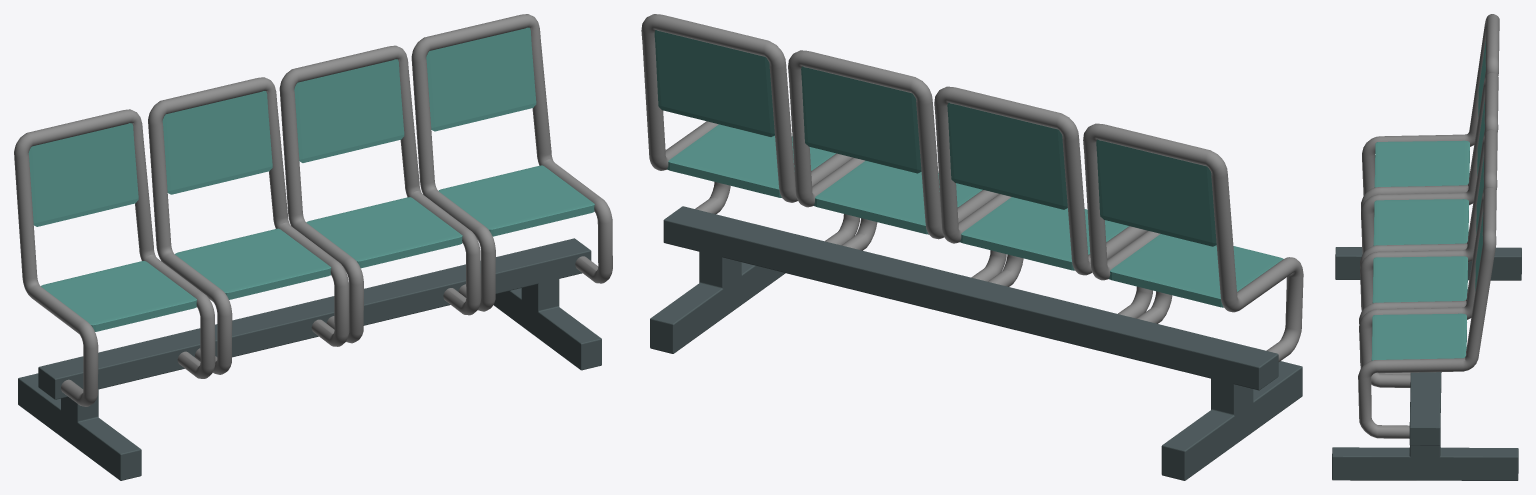
File: chairs.fbx
3 views of the same model, side by side, from view 1: azimuth 30°, elevation 25°; view 2: azimuth 150°, elevation 25°; view 3: azimuth 270°, elevation 25° (orthographic). The views are drawn at different scales.
Visible parts, largest first — view 1: Cube.237, Cylinder.116, Cylinder.115, Cylinder.118, Cylinder.117, Cube.236, Cube.229, Cube.234, Cube.232, Cube.235, Cube.230, Cube.233 (+1 smaller); view 2: Cube.237, Cylinder.116, Cylinder.115, Cylinder.118, Cylinder.117, Cube.234, Cube.229, Cube.236, Cube.232, Cube.231, Cube.230, Cube.235 (+1 smaller); view 3: Cube.237, Cylinder.118, Cube.233, Cube.231, Cube.230, Cube.235, Cylinder.116, Cylinder.117, Cylinder.115, Cube.236, Cube.232, Cube.234 (+1 smaller).
Boxes of the visible parts, box(x1,y1,x2,y2) form: Cube.237: box(18, 238, 601, 480); Cylinder.116: box(14, 109, 215, 406); Cylinder.115: box(148, 77, 349, 374); Cylinder.118: box(411, 14, 612, 311); Cylinder.117: box(279, 45, 480, 343); Cube.236: box(426, 27, 536, 131); Cube.229: box(162, 91, 272, 194); Cube.234: box(294, 59, 404, 162); Cube.232: box(28, 123, 138, 226); Cube.235: box(438, 165, 594, 236); Cube.230: box(175, 228, 331, 299); Cube.233: box(306, 197, 462, 268); Cube.237: box(650, 206, 1302, 480); Cylinder.116: box(1083, 123, 1303, 361); Cylinder.115: box(934, 86, 1152, 318); Cylinder.118: box(641, 14, 860, 245); Cylinder.117: box(788, 50, 1006, 281); Cube.234: box(801, 66, 921, 173); Cube.229: box(947, 102, 1067, 209); Cube.236: box(654, 30, 774, 136); Cube.232: box(1096, 139, 1216, 246); Cube.231: box(1109, 234, 1283, 307); Cube.230: box(960, 197, 1128, 270); Cube.235: box(667, 124, 835, 197); Cube.237: box(1332, 247, 1521, 480); Cylinder.118: box(1358, 187, 1496, 438); Cube.233: box(1372, 256, 1467, 303); Cube.231: box(1374, 140, 1469, 187); Cube.230: box(1373, 199, 1468, 245); Cube.235: box(1371, 313, 1466, 360); Cylinder.116: box(1361, 14, 1499, 248); Cylinder.117: box(1359, 129, 1497, 374); Cylinder.115: box(1360, 72, 1498, 306); Cube.236: box(1475, 212, 1483, 290); Cube.232: box(1478, 41, 1485, 119); Cube.234: box(1476, 155, 1484, 233).
Size of the model in its own units: 215 by 109 by 73.71.
